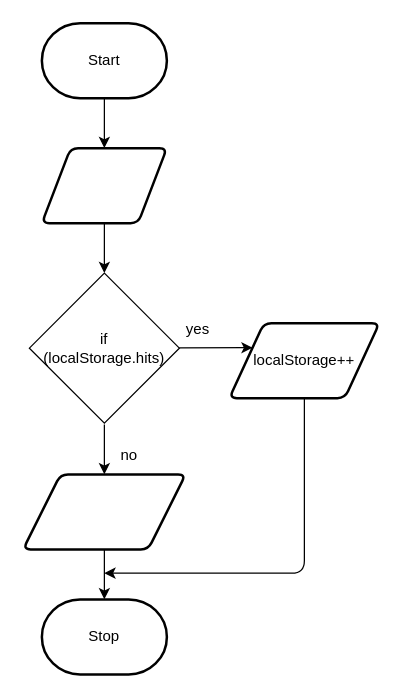
Some shapes in this 401 by 696 pixel diagram are drawn without their labels. Each missing label, with the centre of its shape:
"localStorage = 1" belongs at pixel 103 511.
"user clicks the cookie" belongs at pixel 104 185.
